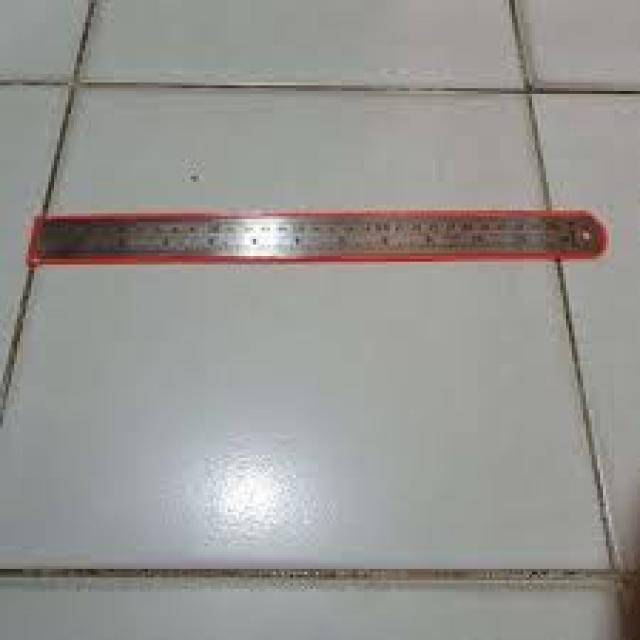Ruler: (33, 214, 606, 256)
